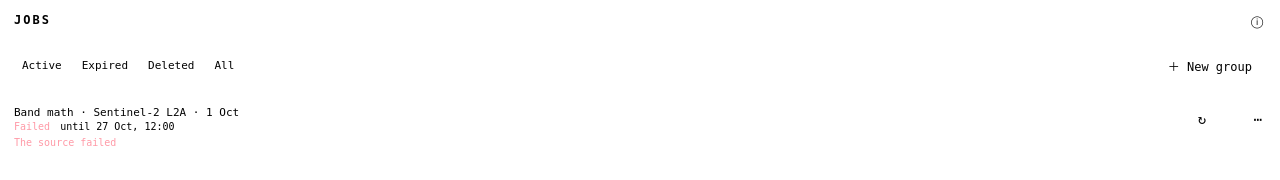
a click › shows the reason when the server refuses, and leaves the old job as it was
Click the button "↻" at point(1202, 119), box [1190,107,1214,131]
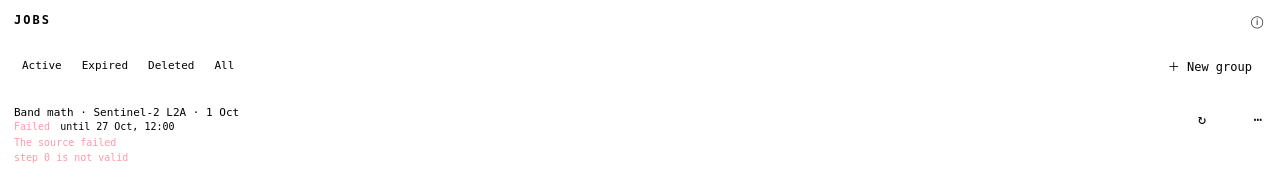
Check: the message "step 0 is not valid" is shown, box [14,152,128,163]
